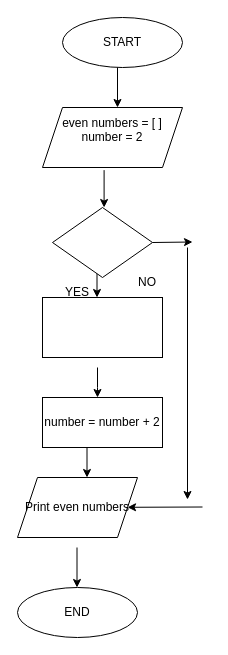
Image size: 228x655. Some labels were removed from this diagram. The box of each missing label's shape, as (x1, y1, x2, y2) in pixels:
Append number to even numbers: (42, 296, 162, 358)
number < 21 ?: (52, 206, 152, 278)
